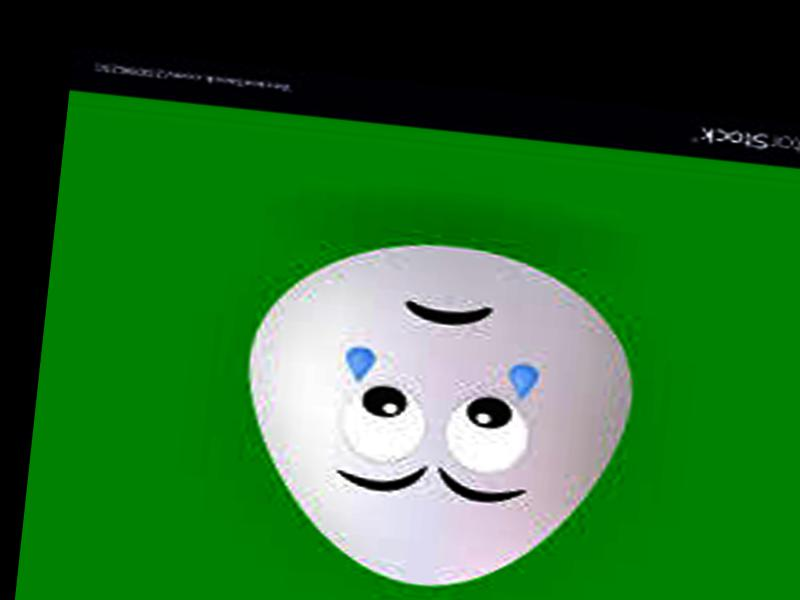Eggs: (230, 226, 649, 600)
